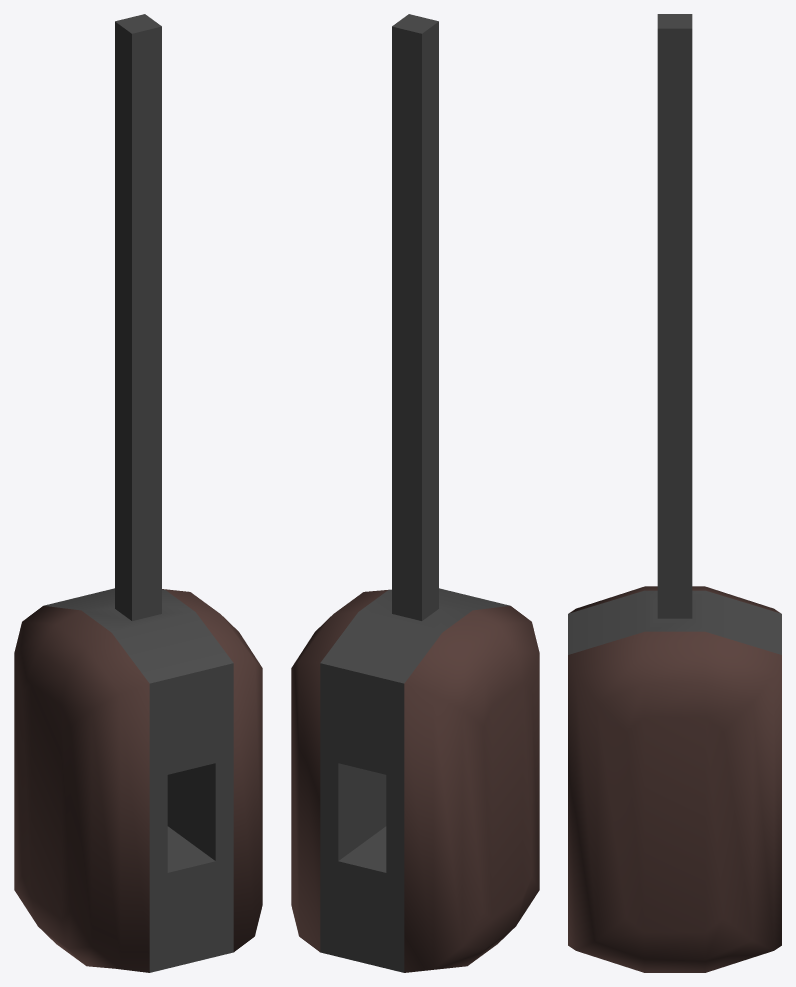
Rendered from pulley.fbx.
3 renders of one model, left to right at view 1: azimuth 30°, elevation 25°; view 2: azimuth 150°, elevation 25°; view 3: azimuth 270°, elevation 25°, orthographic.
Parts seen in each view (by area): view 1: pulley; view 2: pulley; view 3: pulley.
Part boxes in pixels (x1=…): pulley: x1=14, y1=14, x2=262, y2=972; pulley: x1=291, y1=14, x2=539, y2=972; pulley: x1=568, y1=14, x2=781, y2=972.
Size of the model in its own units: 40 by 191 by 40.
